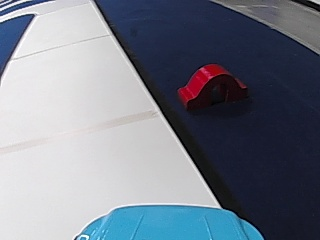bridge: (174, 59, 247, 110)
